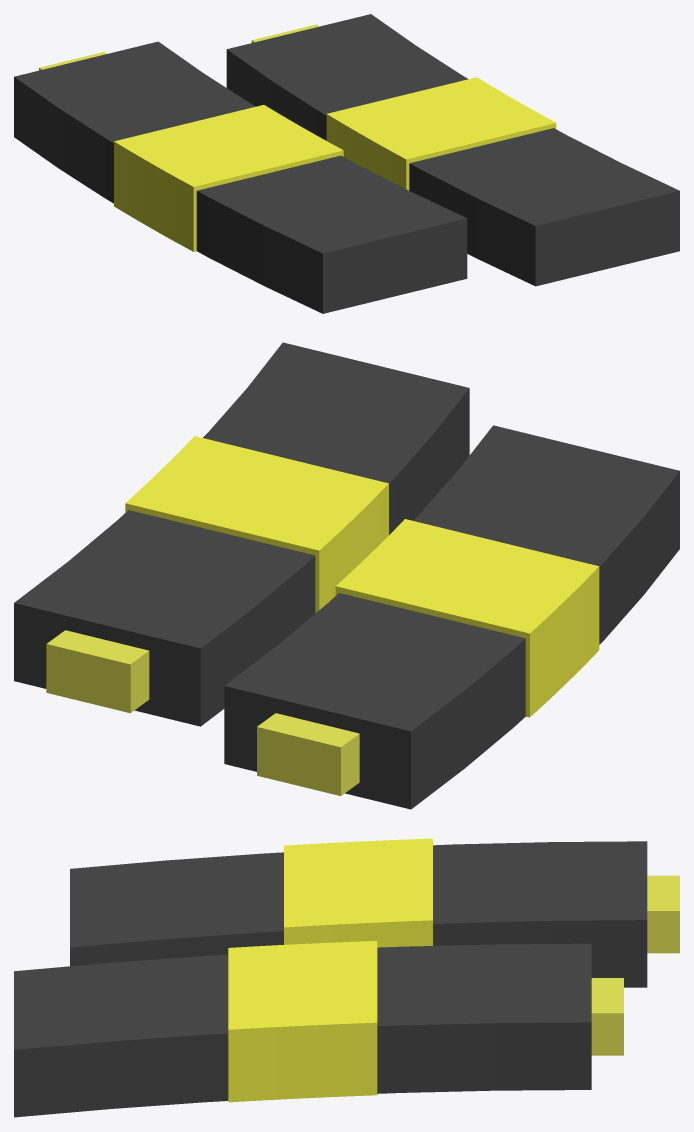
File: ce_ammo_rifle_he_b.obj
The picture shows the model from 3 angles, top to bottom: view 1: azimuth 30°, elevation 25°; view 2: azimuth 150°, elevation 25°; view 3: azimuth 270°, elevation 25°; orthographic projection. The views are drawn at different scales.
Parts seen in each view (by area): view 1: ce_ammo_rifle_he_b_0, ce_ammo_rifle_he_b_3, ce_ammo_rifle_he_b_1, ce_ammo_rifle_he_b_4; view 2: ce_ammo_rifle_he_b_0, ce_ammo_rifle_he_b_3, ce_ammo_rifle_he_b_1, ce_ammo_rifle_he_b_4, ce_ammo_rifle_he_b_5, ce_ammo_rifle_he_b_2; view 3: ce_ammo_rifle_he_b_3, ce_ammo_rifle_he_b_0, ce_ammo_rifle_he_b_4, ce_ammo_rifle_he_b_1, ce_ammo_rifle_he_b_2, ce_ammo_rifle_he_b_5.
Boxes of the visible parts, left/top/right/bottom form: ce_ammo_rifle_he_b_0: left=14, top=41, right=467, bottom=313; ce_ammo_rifle_he_b_3: left=226, top=14, right=679, bottom=286; ce_ammo_rifle_he_b_1: left=114, top=105, right=343, bottom=251; ce_ammo_rifle_he_b_4: left=326, top=77, right=556, bottom=190; ce_ammo_rifle_he_b_0: left=224, top=425, right=679, bottom=809; ce_ammo_rifle_he_b_3: left=14, top=342, right=469, bottom=726; ce_ammo_rifle_he_b_1: left=335, top=519, right=599, bottom=717; ce_ammo_rifle_he_b_4: left=125, top=436, right=388, bottom=613; ce_ammo_rifle_he_b_5: left=46, top=630, right=149, bottom=713; ce_ammo_rifle_he_b_2: left=257, top=713, right=359, bottom=795; ce_ammo_rifle_he_b_3: left=14, top=943, right=591, bottom=1117; ce_ammo_rifle_he_b_0: left=70, top=841, right=647, bottom=987; ce_ammo_rifle_he_b_4: left=228, top=941, right=377, bottom=1102; ce_ammo_rifle_he_b_1: left=284, top=838, right=432, bottom=947; ce_ammo_rifle_he_b_2: left=647, top=875, right=679, bottom=953; ce_ammo_rifle_he_b_5: left=591, top=978, right=623, bottom=1055.
Size of the model in its own units: 0.53 by 0.086 by 0.715.
